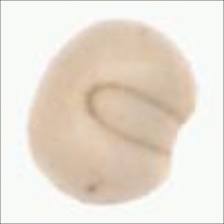L5: (82, 81, 185, 156)
L6: (25, 18, 200, 205)
